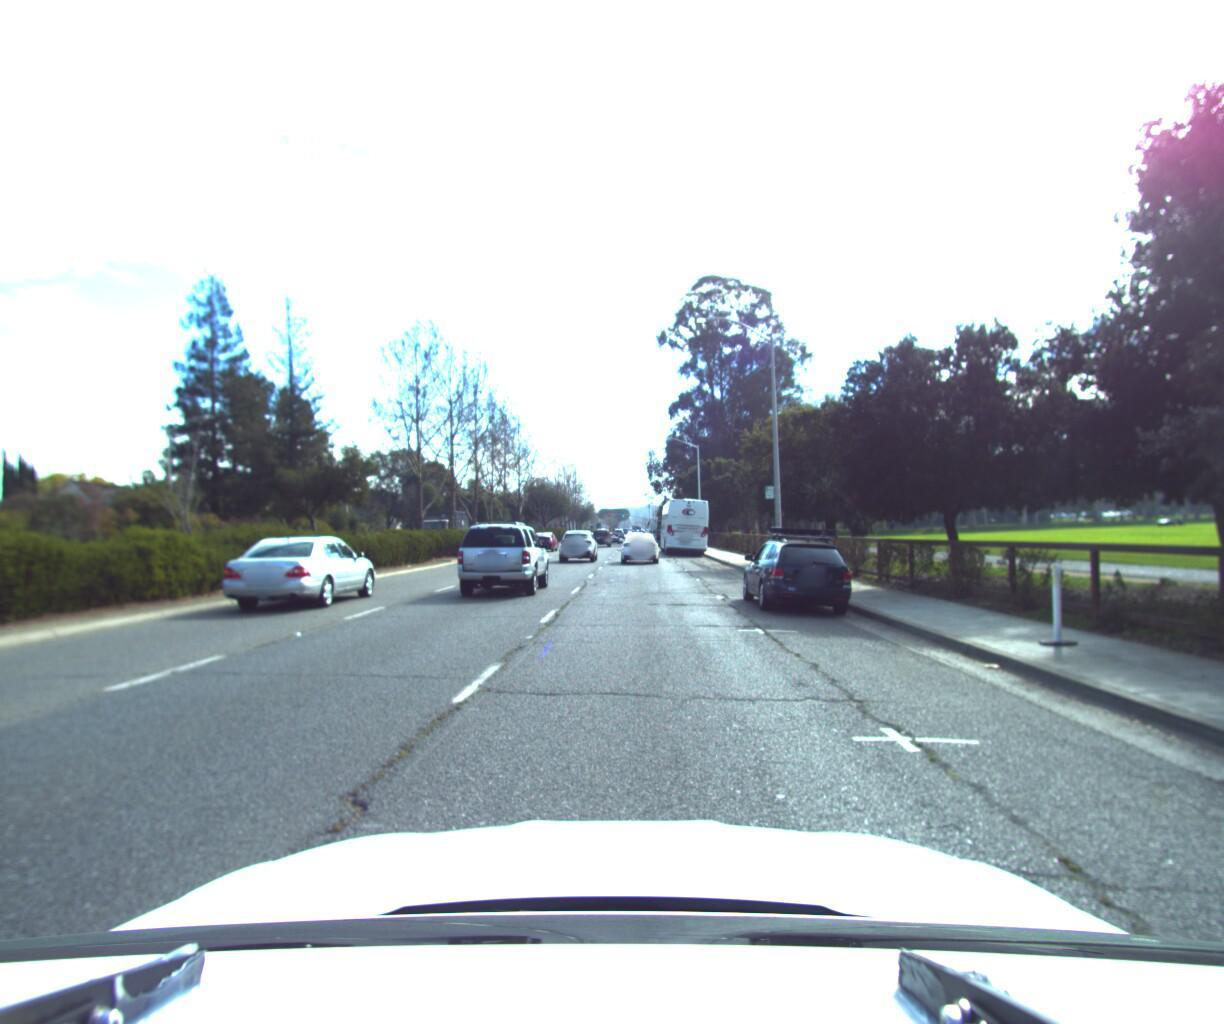bus: (656, 492, 713, 554)
car: (221, 532, 383, 617), (737, 518, 855, 617), (452, 515, 555, 599), (554, 527, 597, 562), (618, 527, 658, 560), (530, 528, 561, 549), (592, 527, 613, 546)
truck: (405, 504, 472, 547)
